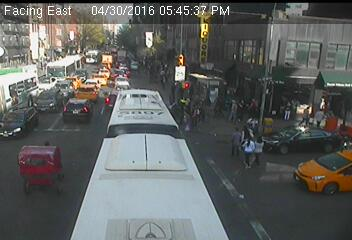neg: (72, 85, 100, 123), (35, 132, 62, 167), (5, 107, 31, 142), (219, 188, 245, 223), (36, 64, 62, 98), (168, 4, 190, 34), (11, 4, 30, 29), (224, 25, 242, 50), (245, 76, 258, 93), (152, 32, 162, 45), (147, 50, 156, 62)
pos: (228, 126, 253, 159), (238, 137, 263, 169), (237, 118, 260, 149), (249, 135, 272, 165), (184, 104, 204, 129), (225, 98, 244, 124), (280, 98, 298, 122), (313, 108, 330, 131), (300, 105, 316, 127), (248, 97, 264, 118), (159, 74, 169, 88)
